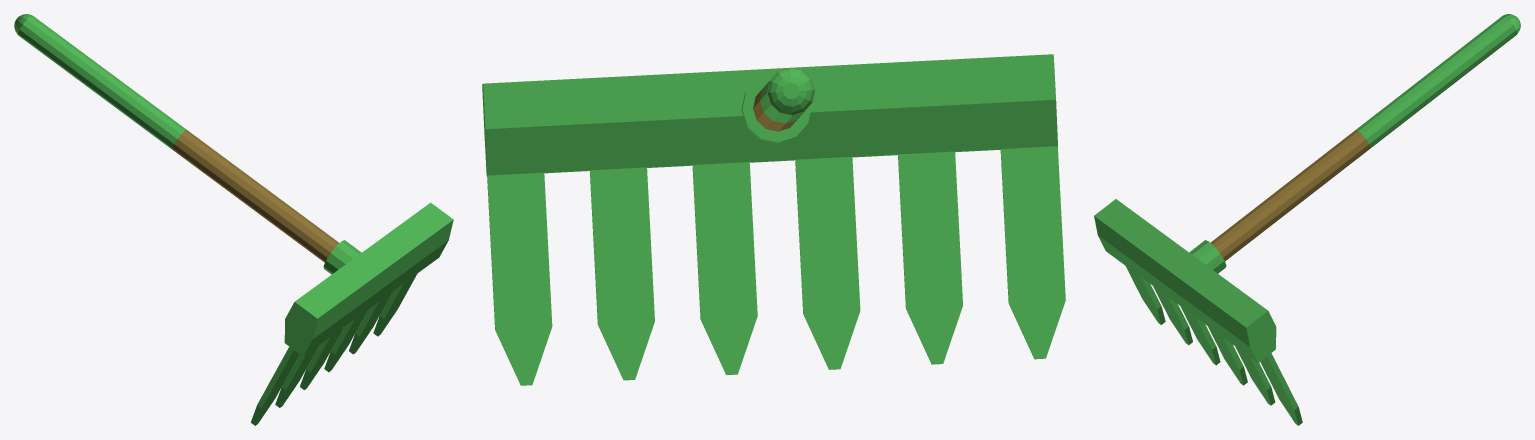
Rendered from hakefake1.obj.
The picture shows the model from 3 angles, left to right: view 1: azimuth 30°, elevation 25°; view 2: azimuth 150°, elevation 25°; view 3: azimuth 270°, elevation 25°; orthographic projection. The views are drawn at different scales.
Parts seen in each view (by area): view 1: model; view 2: model; view 3: model.
Boxes of the visible parts, box(x1,y1,x2,y2) form: model: box(14, 14, 453, 425); model: box(482, 54, 1065, 385); model: box(1094, 14, 1520, 425).
Bounding box in the file's own units: 1.85 × 1.75 × 2.31.
2 materials, 2 textured.
